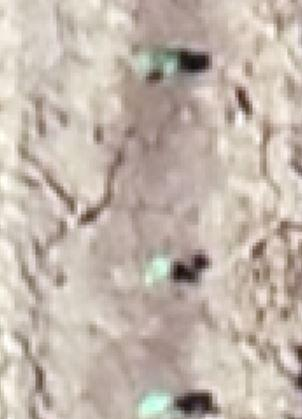cotton: (142, 49, 176, 74), (140, 392, 174, 414), (150, 257, 168, 281)
